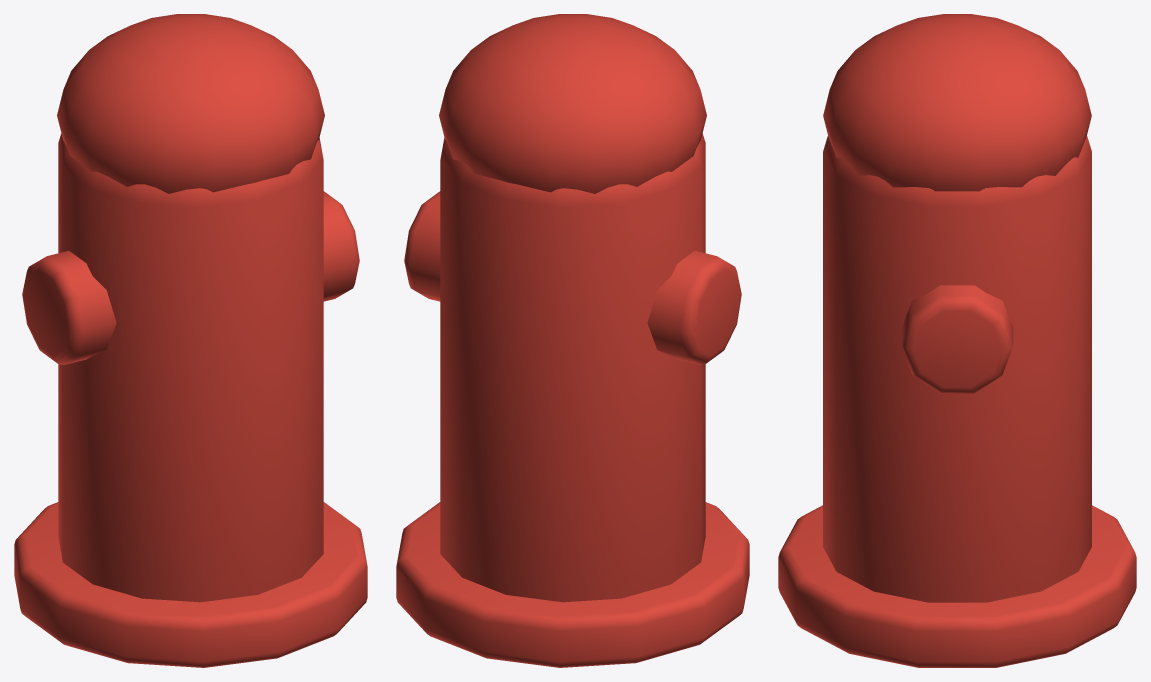
Rendered from prop_hydrant.glb.
3 renders of one model, left to right at view 1: azimuth 30°, elevation 25°; view 2: azimuth 150°, elevation 25°; view 3: azimuth 270°, elevation 25°, orthographic.
Visible parts, largest first — view 1: hydrant; view 2: hydrant; view 3: hydrant.
Part boxes in pixels (x1=…): hydrant: x1=14, y1=14, x2=367, y2=667; hydrant: x1=396, y1=14, x2=749, y2=667; hydrant: x1=778, y1=14, x2=1136, y2=667.
Size of the model in its own units: 0.312 by 0.559 by 0.32.
